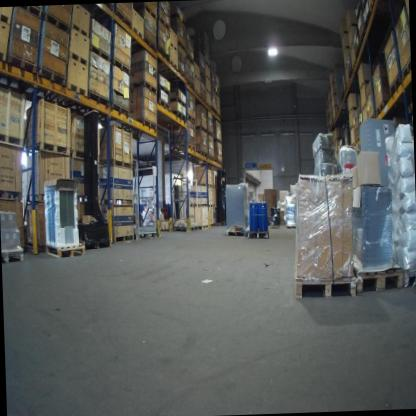pallet: (293, 274, 358, 301), (351, 263, 405, 295), (22, 138, 70, 158), (37, 61, 68, 89), (44, 241, 87, 259), (7, 54, 40, 77), (43, 11, 73, 36), (86, 87, 110, 111), (128, 77, 158, 96), (90, 44, 114, 65), (96, 158, 134, 171), (98, 195, 135, 208), (0, 128, 24, 148), (67, 49, 90, 68), (135, 115, 159, 133), (15, 6, 43, 21), (2, 244, 24, 263), (114, 7, 133, 29), (68, 21, 90, 40), (387, 70, 403, 95), (136, 5, 159, 22), (66, 81, 86, 99), (0, 187, 22, 203), (170, 141, 196, 154), (114, 58, 131, 77), (143, 34, 159, 54), (70, 149, 92, 163), (111, 101, 129, 118), (108, 231, 138, 241), (24, 190, 47, 203), (247, 228, 271, 240), (0, 7, 13, 28), (404, 269, 416, 291), (173, 224, 202, 233), (400, 58, 411, 80), (131, 24, 145, 41), (158, 16, 172, 33), (169, 95, 186, 108), (157, 98, 171, 113), (171, 109, 186, 123), (376, 100, 387, 119), (160, 46, 171, 64), (226, 229, 247, 238), (361, 78, 374, 92), (159, 84, 171, 98), (179, 67, 188, 85), (167, 56, 178, 70), (0, 45, 8, 64), (197, 182, 213, 191), (347, 21, 358, 34), (186, 112, 197, 125), (195, 149, 208, 160), (177, 38, 187, 52), (185, 78, 196, 90), (369, 0, 378, 14), (76, 195, 90, 204), (177, 54, 186, 68), (361, 100, 369, 114), (348, 104, 358, 115), (197, 200, 208, 210), (196, 125, 208, 134), (208, 220, 218, 230), (185, 53, 194, 64), (170, 40, 177, 54), (352, 56, 358, 70), (349, 40, 355, 54), (200, 93, 207, 105), (195, 89, 202, 101), (213, 137, 223, 145), (187, 201, 198, 208), (194, 72, 201, 83), (207, 202, 215, 211), (202, 223, 210, 232), (217, 219, 226, 227), (208, 153, 216, 162), (215, 159, 224, 167), (355, 135, 361, 146), (329, 80, 337, 88), (345, 78, 351, 88), (207, 101, 213, 111), (331, 91, 338, 99), (212, 106, 217, 116), (205, 73, 210, 83), (349, 124, 356, 131), (208, 130, 214, 138), (211, 84, 216, 93), (373, 113, 377, 124), (332, 103, 338, 110), (350, 140, 355, 148), (217, 111, 222, 119), (206, 87, 211, 95), (215, 91, 220, 99)
